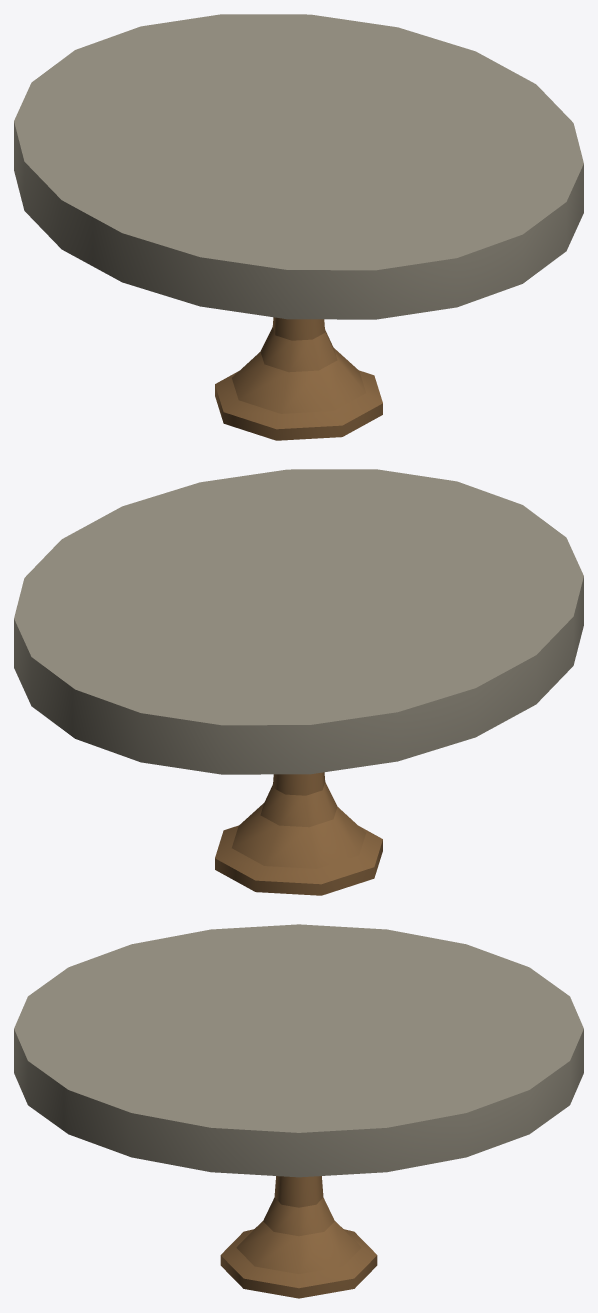
Rendered from table.round.cloth.glb.
3 views of the same model, one above another, from view 1: azimuth 30°, elevation 25°; view 2: azimuth 150°, elevation 25°; view 3: azimuth 270°, elevation 25° (orthographic). The views are drawn at different scales.
Parts seen in each view (by area): view 1: table_round_cloth; view 2: table_round_cloth; view 3: table_round_cloth.
Boxes of the visible parts, <box> form: table_round_cloth: <box>14,14,583,440</box>; table_round_cloth: <box>14,469,583,895</box>; table_round_cloth: <box>14,924,583,1298</box>.
Size of what is drawn, in the model's own units: 1.51 by 0.8 by 1.75.
